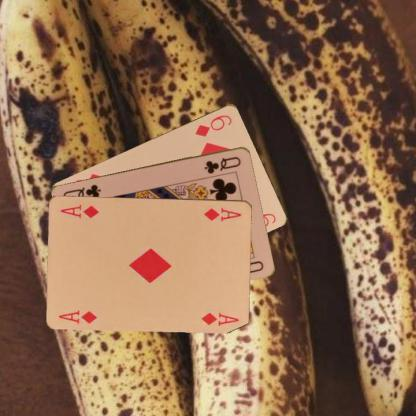6d: (192, 112, 233, 138)
Ad: (201, 204, 243, 223), (57, 307, 98, 325)
Qc: (202, 154, 242, 175)
